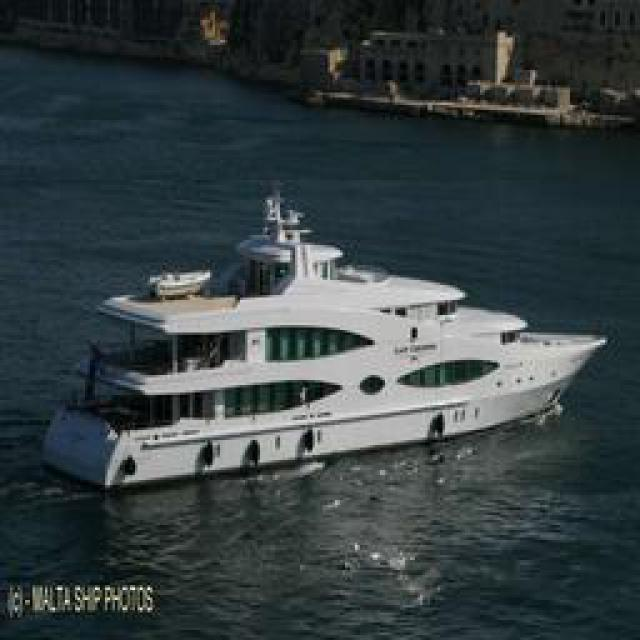Ship: (41, 190, 611, 488)
